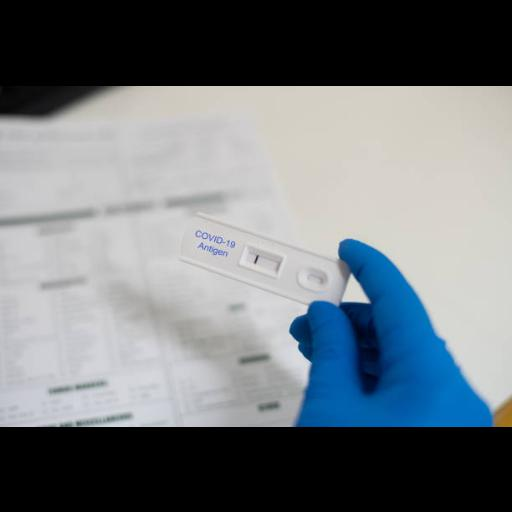Neg: (177, 210, 353, 312)
